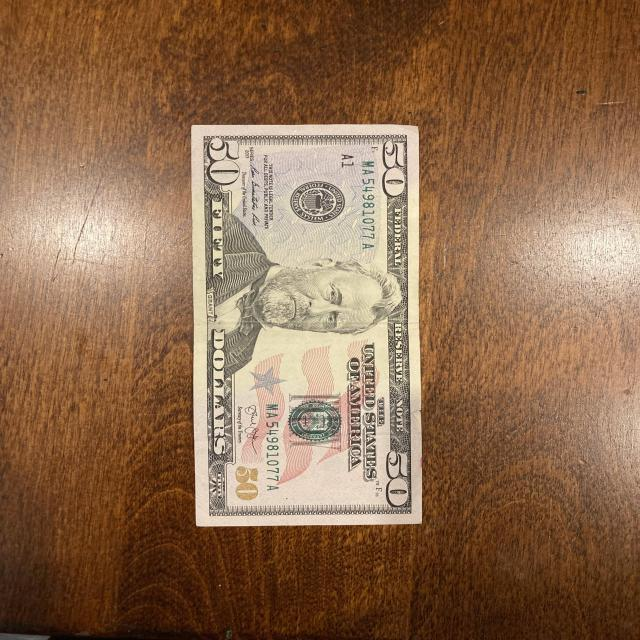fifty: (189, 124, 423, 529)
